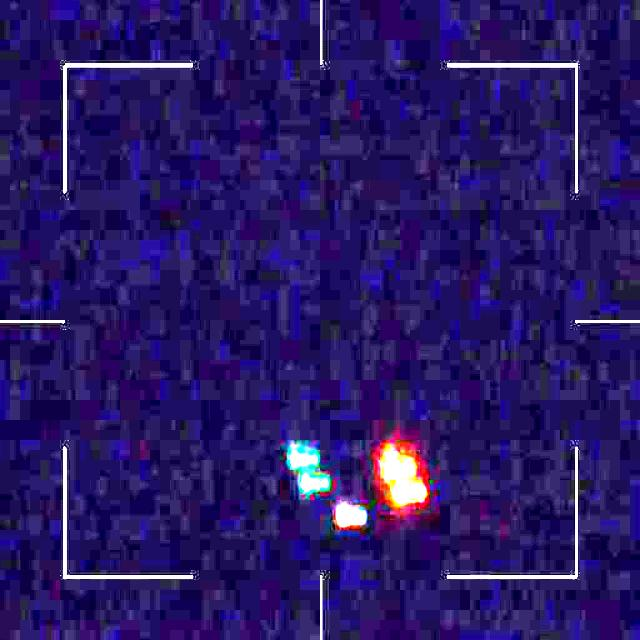bird: (288, 444, 426, 526)
